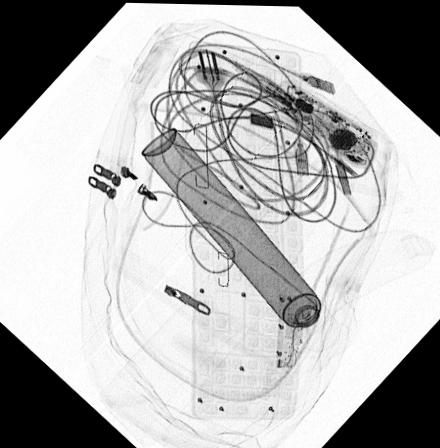Sprayer: (139, 123, 344, 351)
